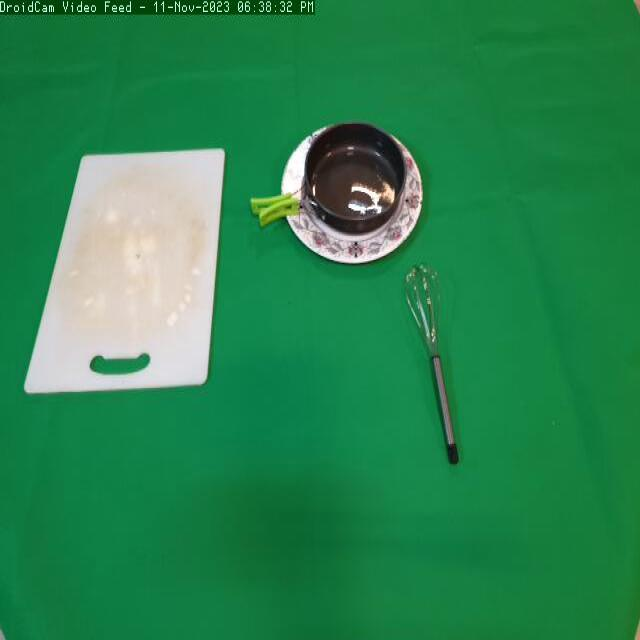cutting board: (23, 136, 237, 418)
pan: (254, 116, 411, 230)
plate: (254, 112, 434, 269)
whisk: (395, 261, 478, 478)
